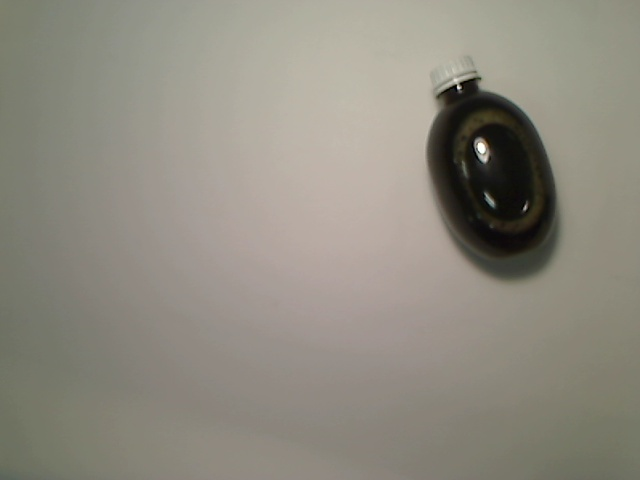plast_bottle: (423, 54, 559, 264)
